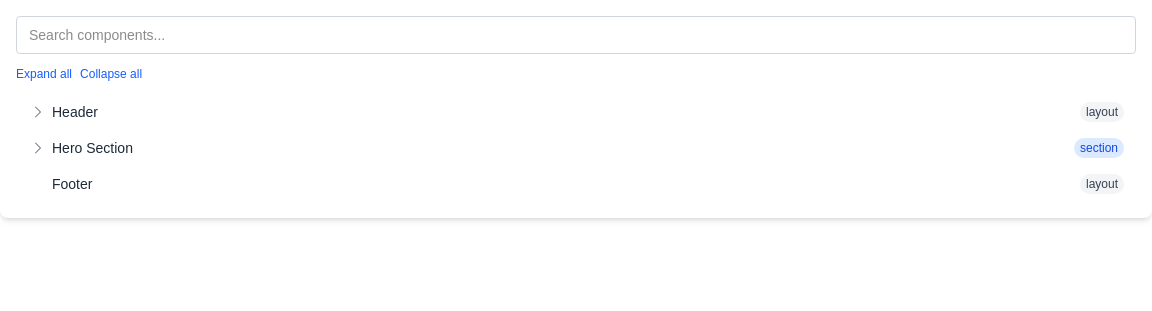
Test: ComponentTree › expands node to show children on chevron click
Click the 1st button named "toggle" at (38, 112), box [28, 102, 48, 122]
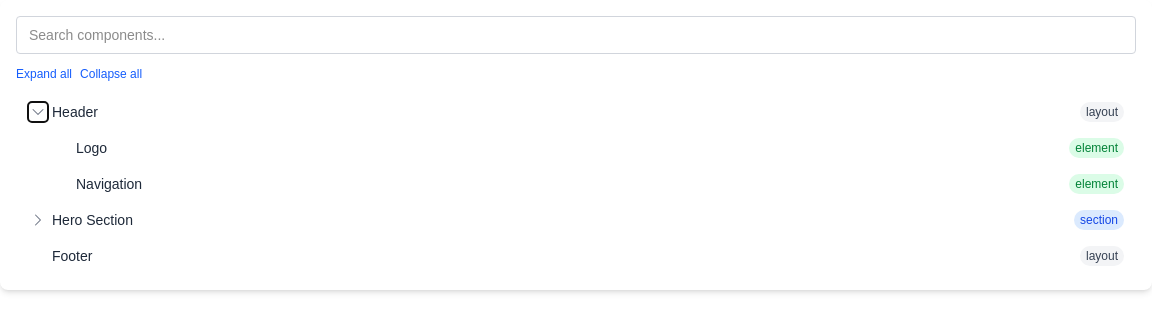
Expected: the button "Logo" is shown, [76, 138, 1069, 158]
Expected: the button "Navigation" is shown, [76, 174, 1069, 194]
